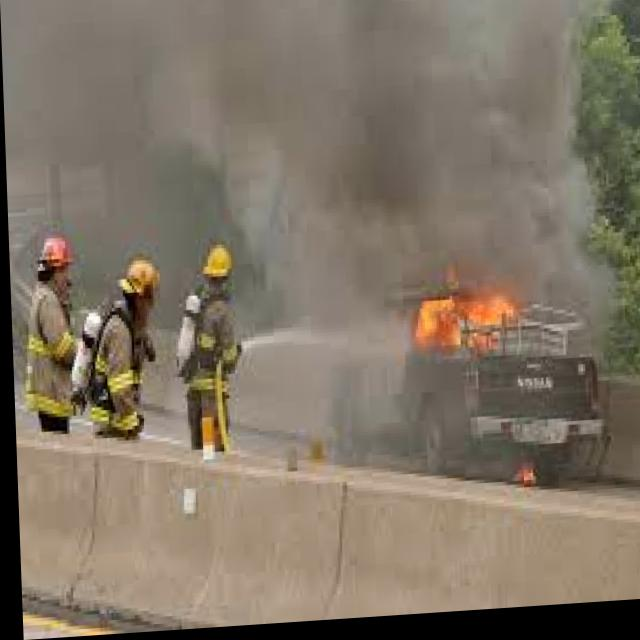fire: (393, 267, 521, 382)
